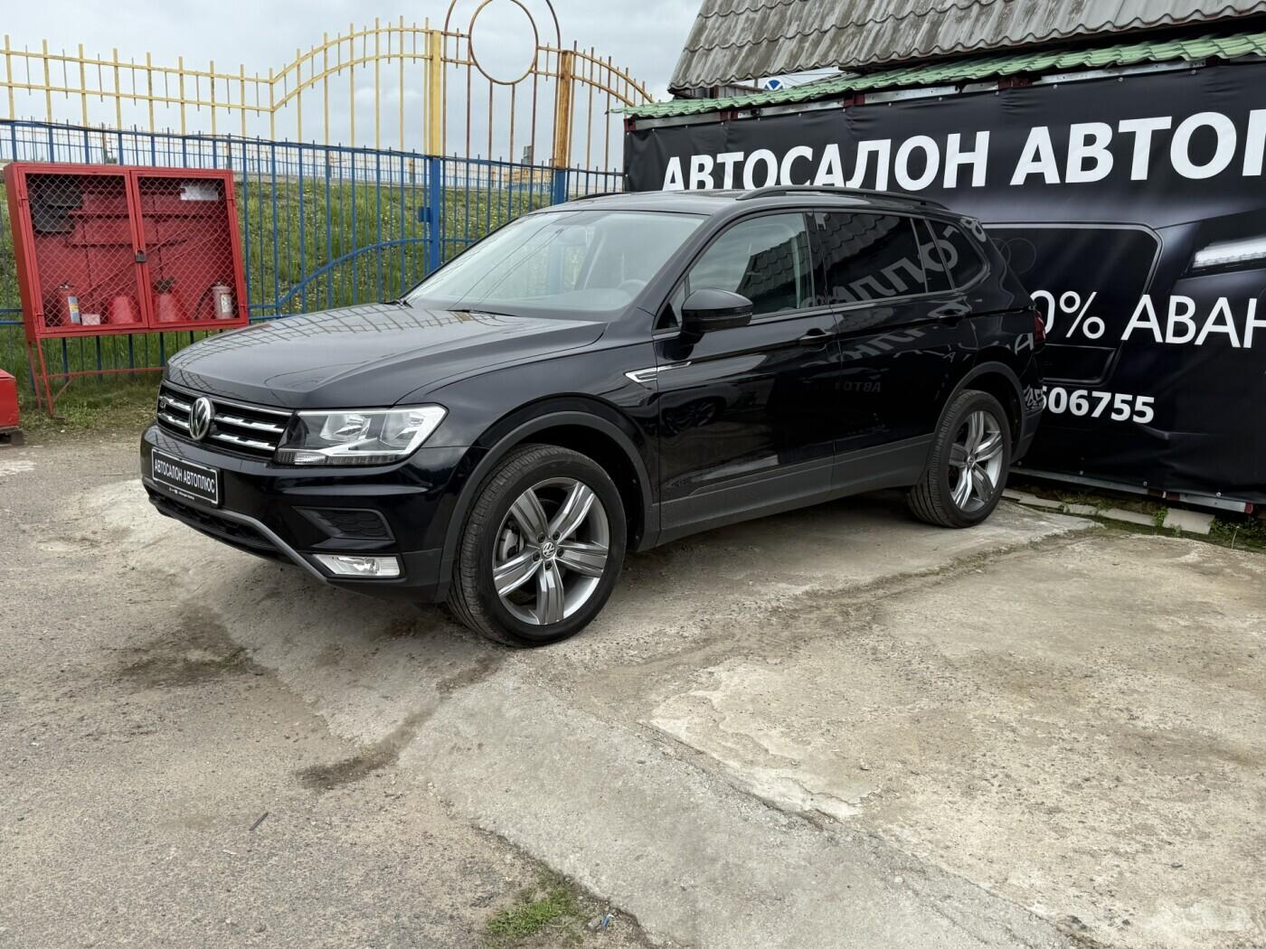Tiguan_2016-2021: (132, 187, 1052, 655)
